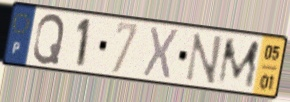1: (74, 17, 93, 69)
7: (110, 19, 142, 76)
M: (215, 37, 262, 90)
N: (182, 31, 224, 87)
Q: (31, 13, 67, 67)
X: (141, 24, 182, 82)
